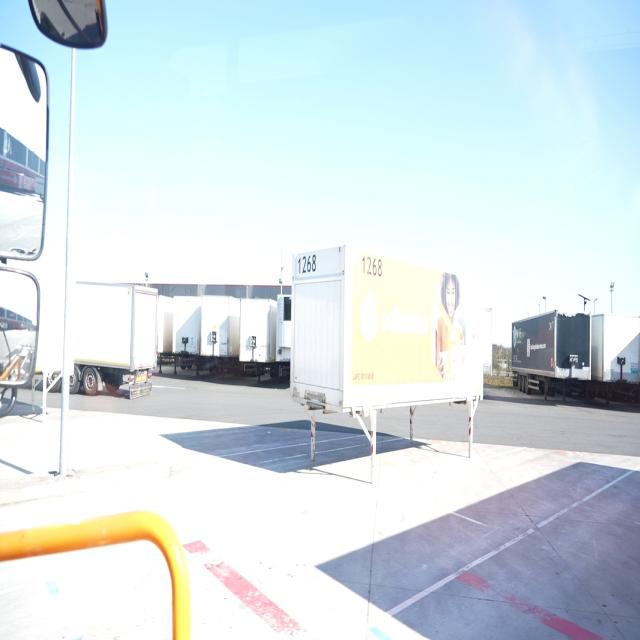Code: (294, 249, 320, 279), (360, 250, 384, 281)
